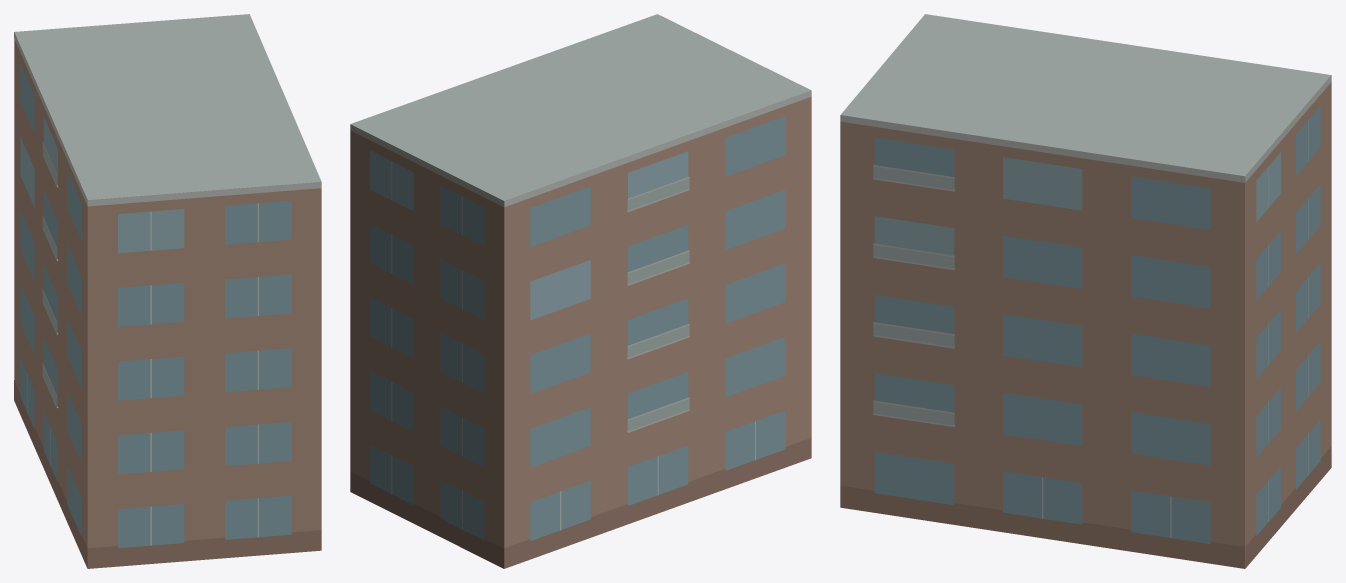
File: survey-upis-32849536.glb
The picture shows the model from 3 angles, left to right: view 1: azimuth 30°, elevation 25°; view 2: azimuth 150°, elevation 25°; view 3: azimuth 270°, elevation 25°; orthographic projection. The views are drawn at different scales.
Visible parts, largest first — view 1: survey-upis-32849536.tmp; view 2: survey-upis-32849536.tmp; view 3: survey-upis-32849536.tmp.
Boxes of the visible parts, <box> form: survey-upis-32849536.tmp: <box>14,14,321,568</box>; survey-upis-32849536.tmp: <box>350,14,811,568</box>; survey-upis-32849536.tmp: <box>840,14,1331,568</box>.
Bounding box in the file's own units: 12.77 × 14.4 × 16.34.
